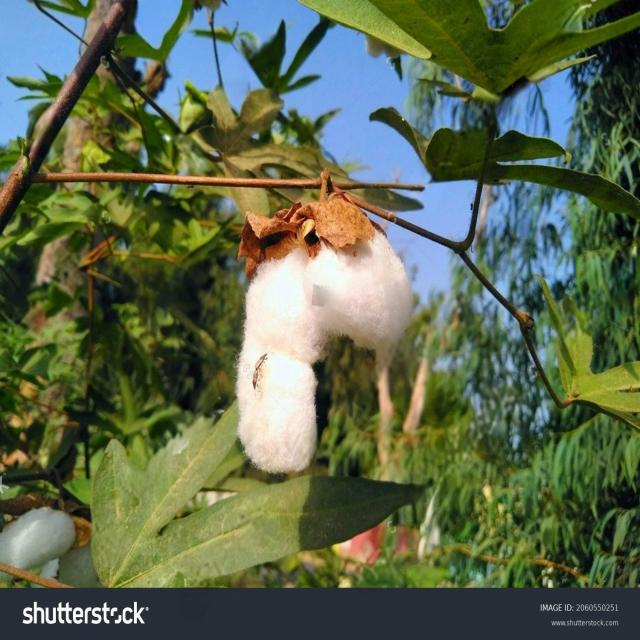Leaf: (229, 150, 426, 492)
